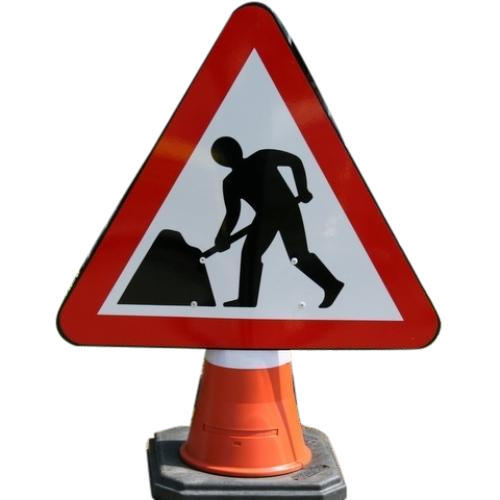caution: (57, 2, 440, 349)
